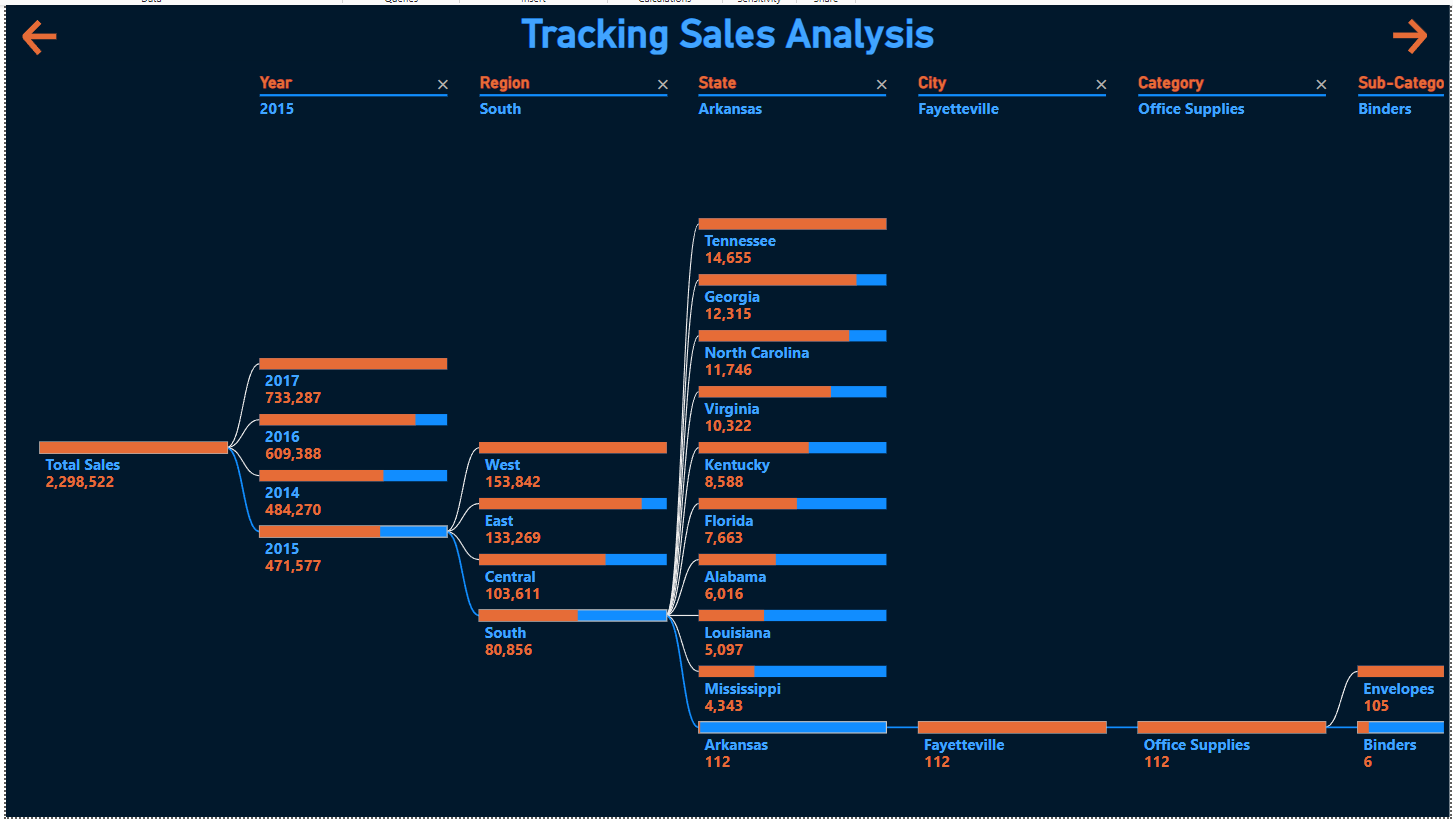

The dashboard page shown, as its layout file describes it:
{"tool":"powerbi","page":{"name":"Tracking Sales Analysis","canvas":[1280,720],"ordinal":3},"visuals":[{"type":"decompositionTreeVisual","title":"Tracking Sales Analysis","fields":{"Analyze":["All Measures.Total Sales"],"ExplainBy":["Calendar.Year","Dim Customers.Region","Dim Customers.State","Dim Customers.City","Dim Products.Category","Dim Products.Sub-Category","Dim Products.Product Name"]},"box":[0,0,1280.4,720],"z":0},{"type":"actionButton","box":[1221,8,46.1,39.9],"z":1000},{"type":"actionButton","box":[11,9,40,40],"z":2000}]}

Visuals, with their boxes on the page's 1280x720 design canvas (x1, y1, x2, y2). These are canvas units, not pixel positions in the 1453x823 screenshot, which may show the page scaled, cropped or inside an application window:
"Tracking Sales Analysis" decompositionTreeVisual: [0, 0, 1280, 720]
actionButton: [1221, 8, 1267, 48]
actionButton: [11, 9, 51, 49]
